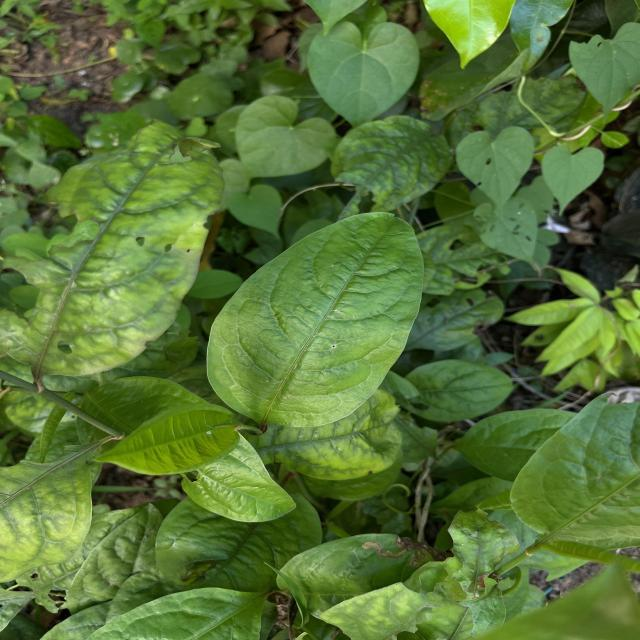Plumbago indica: (202, 202, 432, 436), (326, 108, 453, 211), (88, 396, 244, 478), (404, 356, 516, 424)
